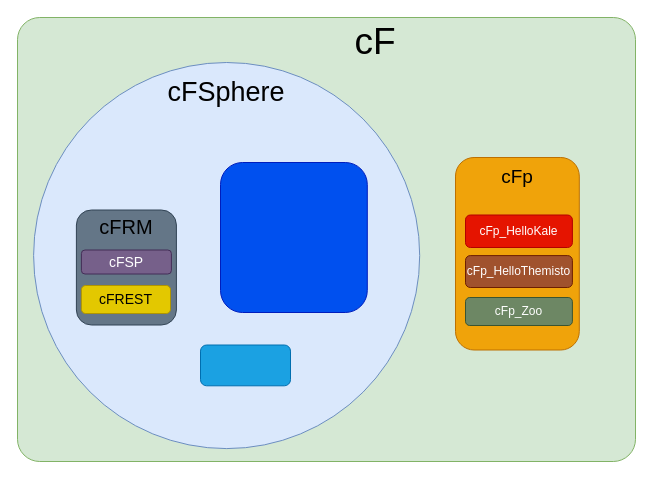
The diagram is 653 pixels wide and 479 high, and some of its shapes have lost their labels. Each missing label, with the centre of its shape:
"cFCreate" goes at pixel 245 365.
"cFDK" goes at pixel 293 237.
